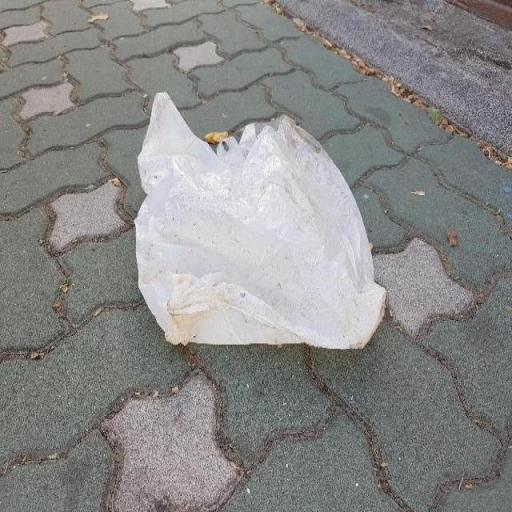plastic-bag: (134, 86, 389, 350)
